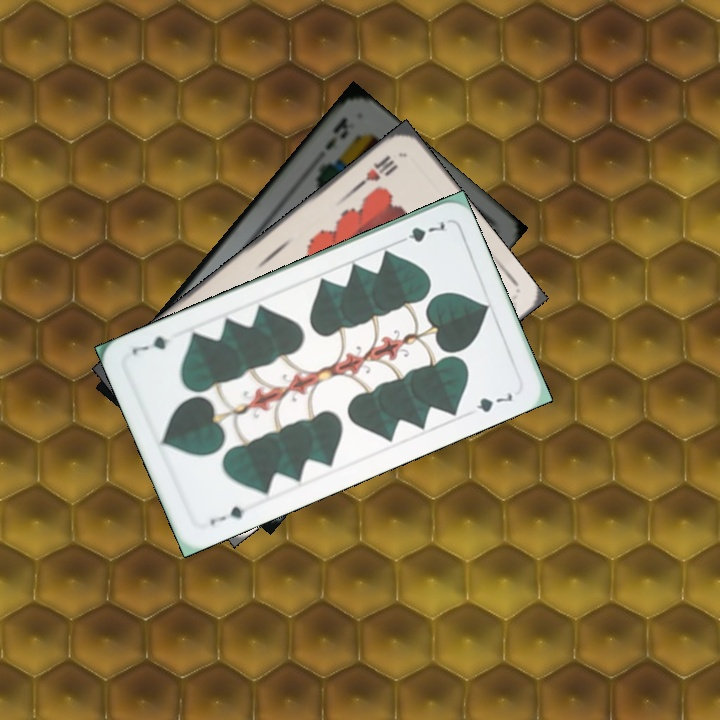EK: (321, 113, 352, 154)
G7: (392, 217, 450, 247), (206, 502, 247, 528)
H10: (351, 150, 400, 193)
